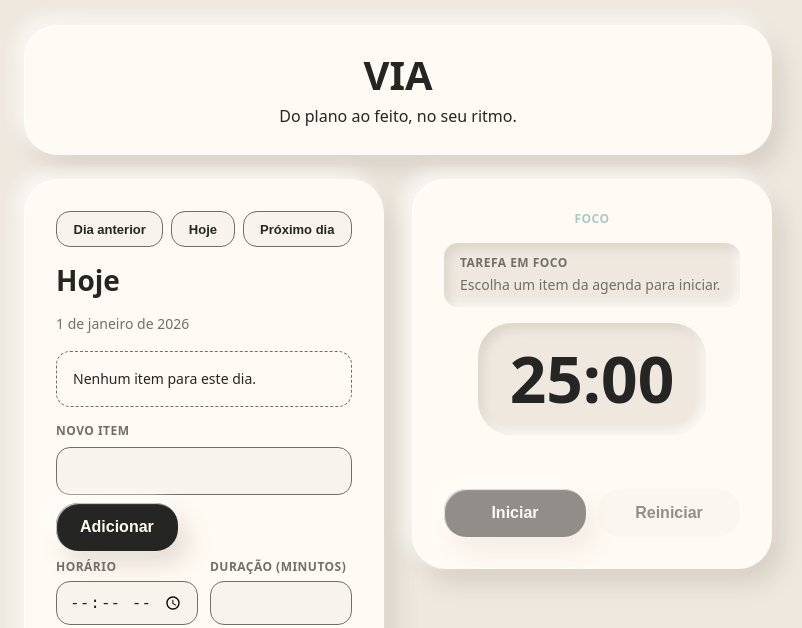
Scenario: App integration: agenda planning and focus timer › removing an unselected item does not alter the running timer status or time
In the field labelled "Novo item": (204, 471) [56,447,352,495], type "Write the report"
Click the button "Adicionar": (117, 527) [56,503,178,551]
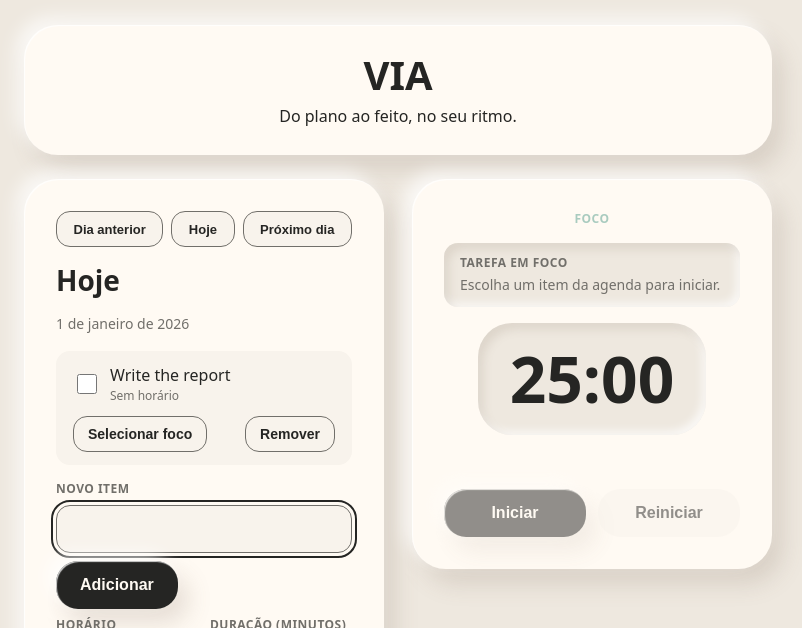
In the field labelled "Novo item": (204, 529) [56,505,352,553], type "Plan the day"
Click the button "Adicionar": (117, 585) [56,561,178,609]
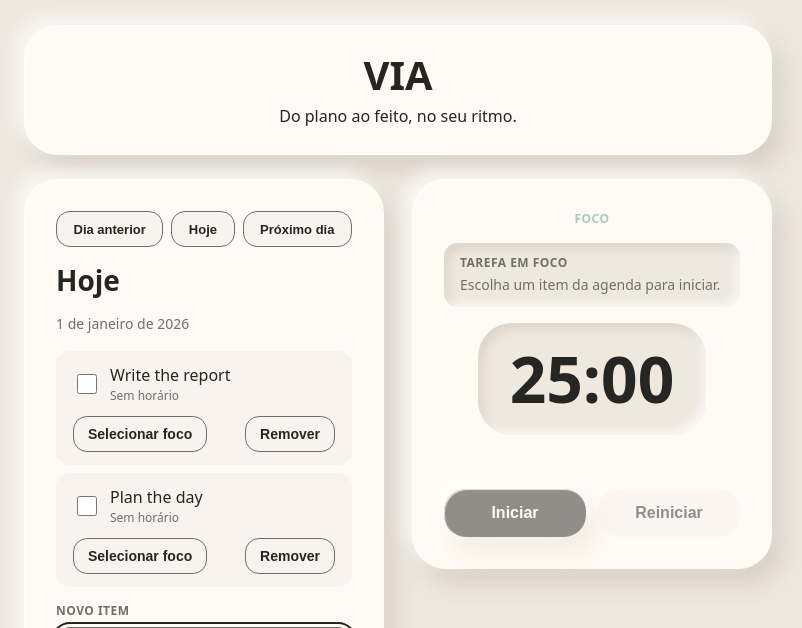
Click the button "Selecionar foco" below "Plan the day": (140, 556) [73,538,207,574]
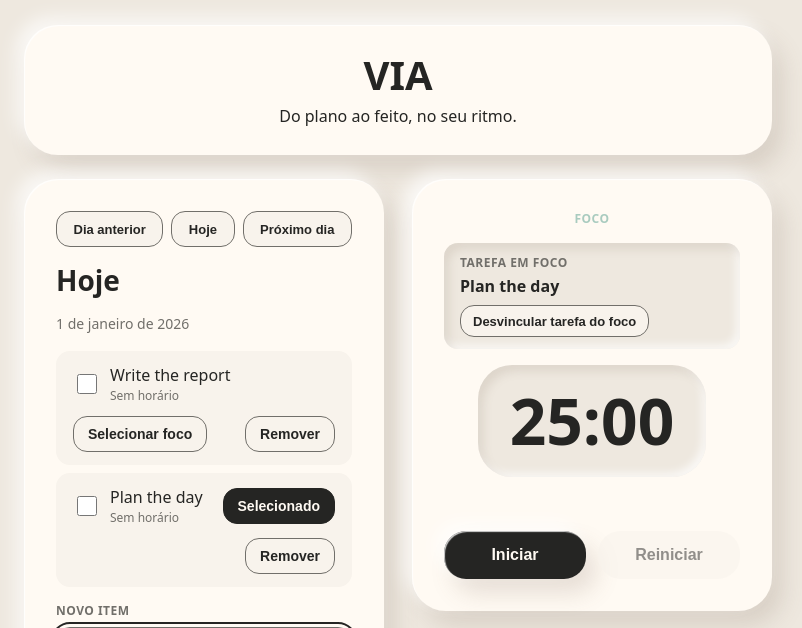
Click the button "Iniciar": (515, 555) [444,531,586,579]
Wait 60000 ms
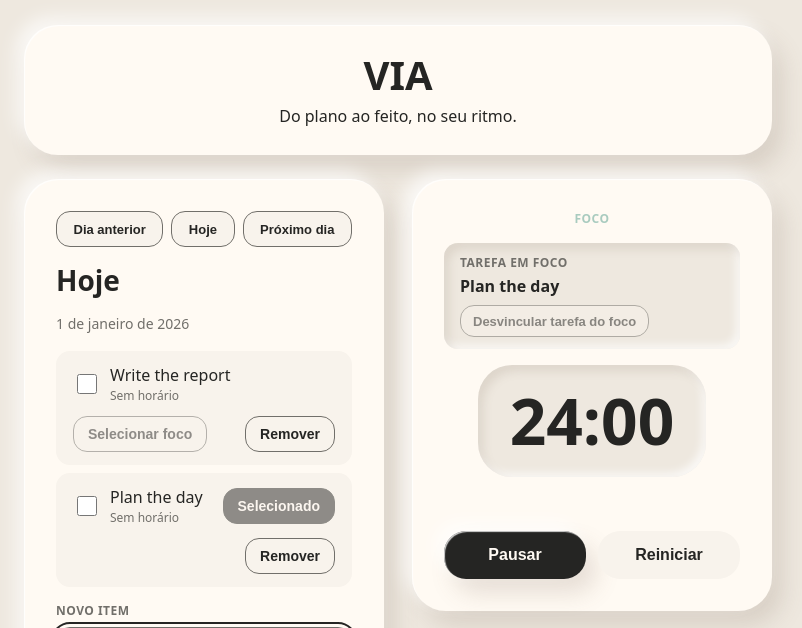
Click the button "Remover" below "Write the report": (290, 434) [245,416,335,452]
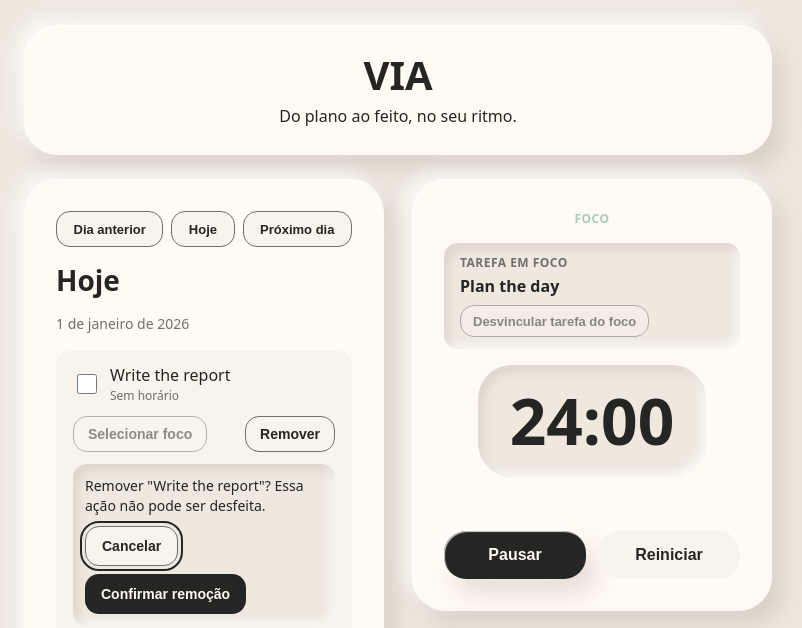
Click the button "Confirmar remoção": (166, 594) [85,574,246,614]
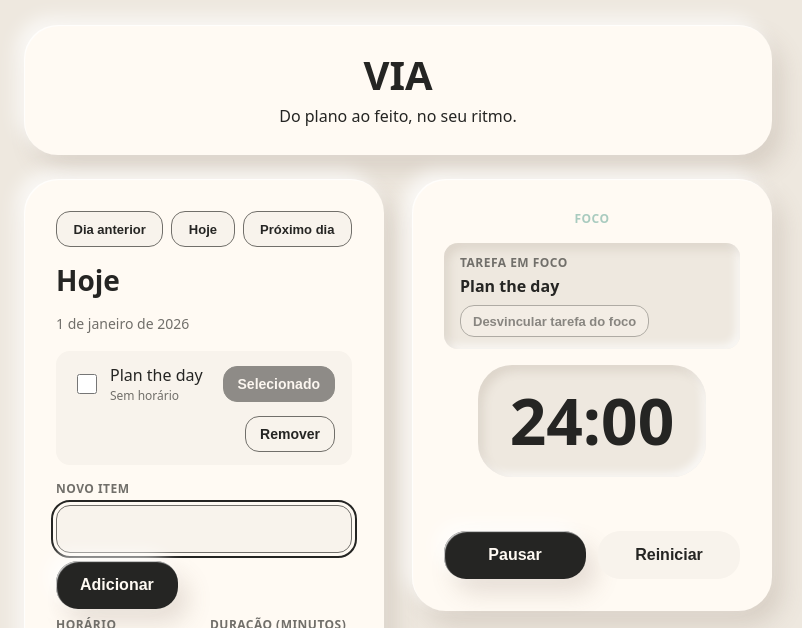
Expected: the text "Plan the day" below "1 de janeiro de 2026" is shown, [110,364,203,386]
Expected: the text named "Tempo restante 24:00" is shown, [478,365,706,477]
Expected: the text "Write the report" is gone
